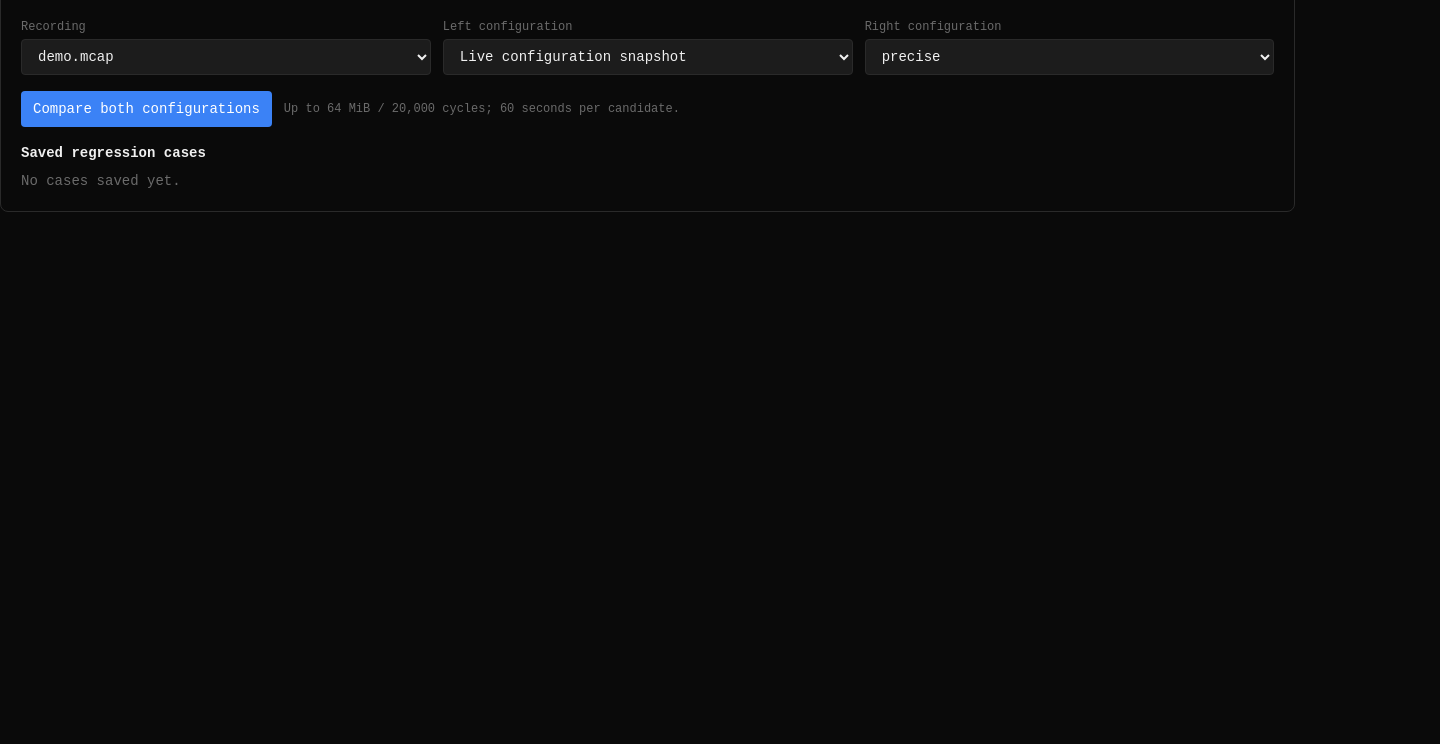
Test case: compares two selected snapshots and saves a runnable expected-decision case
Click the button "Compare both configurations" at (146, 109), box 21,91 -> 272,127
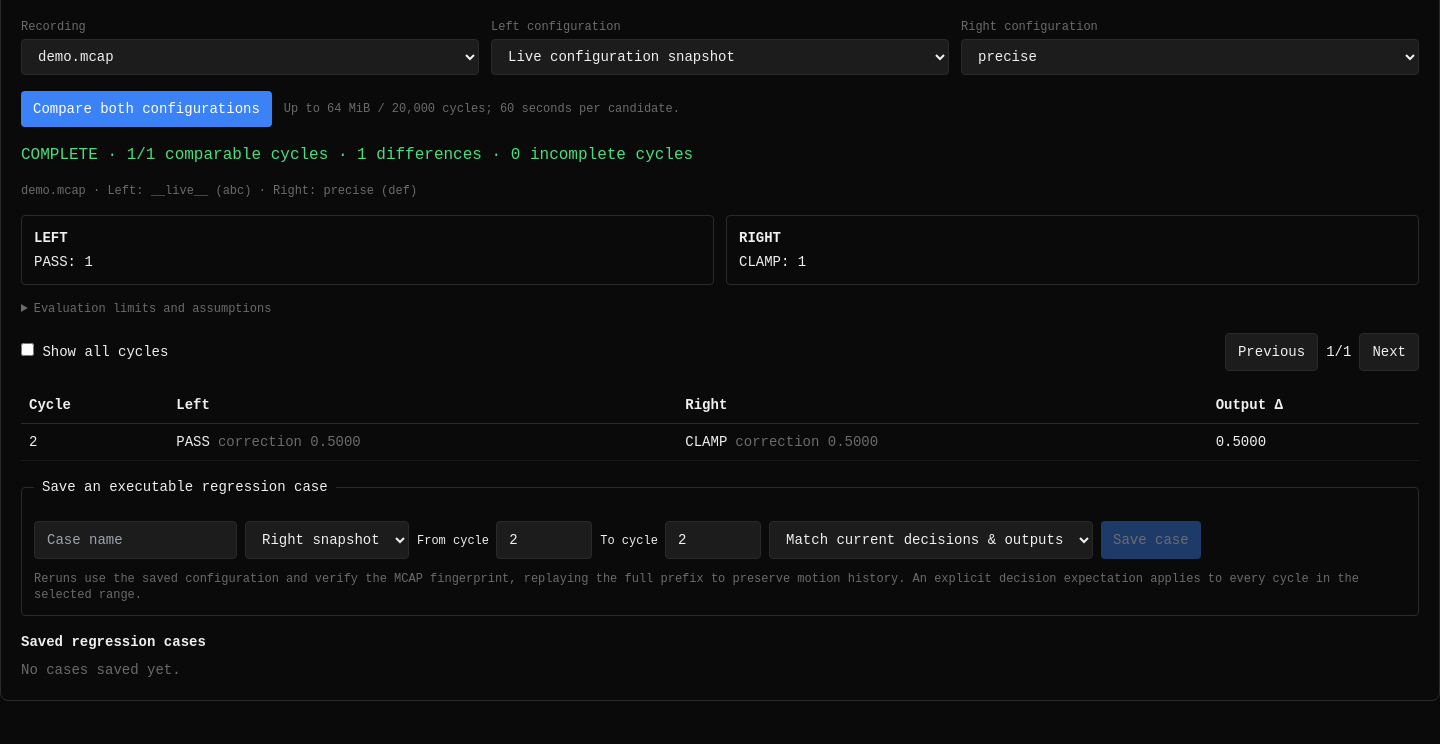
Now the text "COMPLETE · 1/1 comparable cycles · 1 differences · 0 incomplete cycles" is shown, box 21,146 -> 693,164
Type "Must clamp" into the field named "Regression name" at (136, 540), box 34,521 -> 237,559
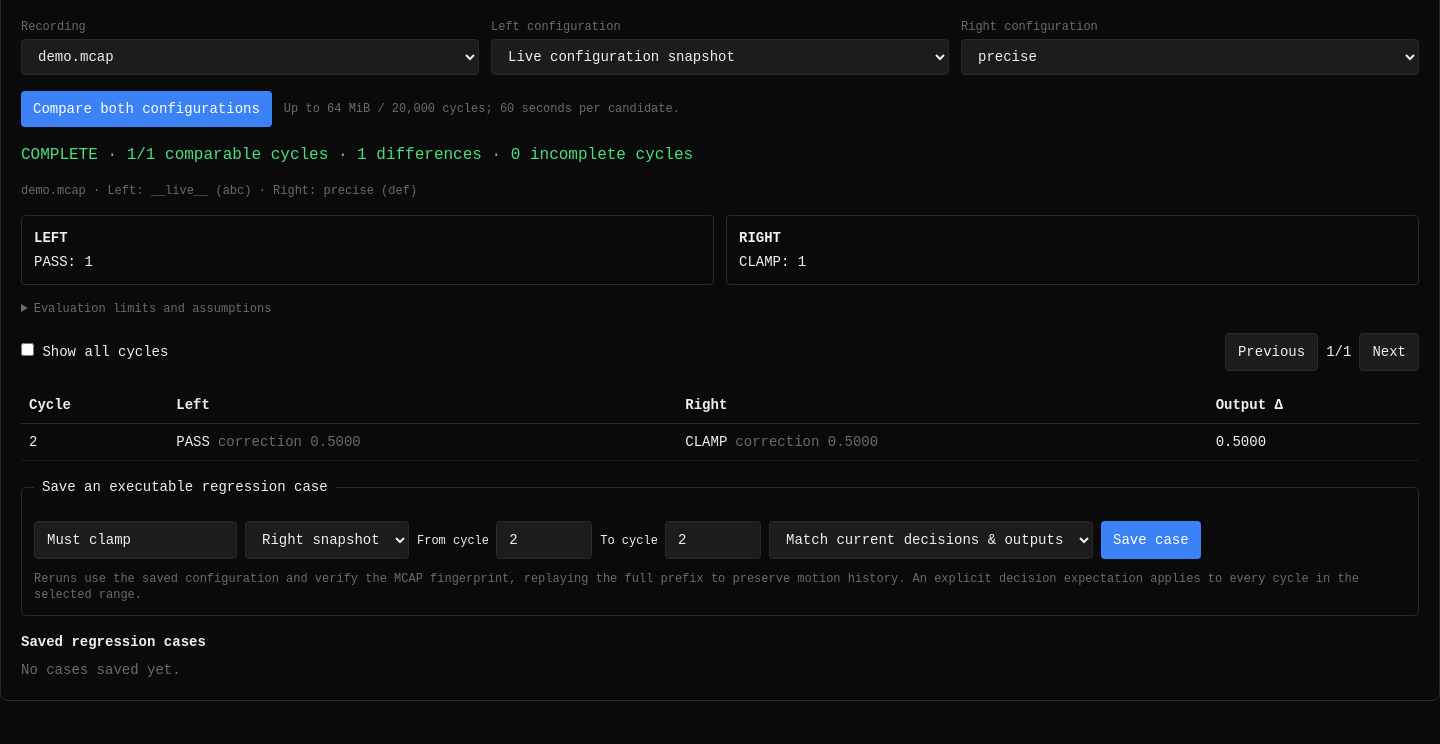
Select "Must be CLAMP" in the dropdown named "Expected result" at (931, 540), box 769,521 -> 1093,559
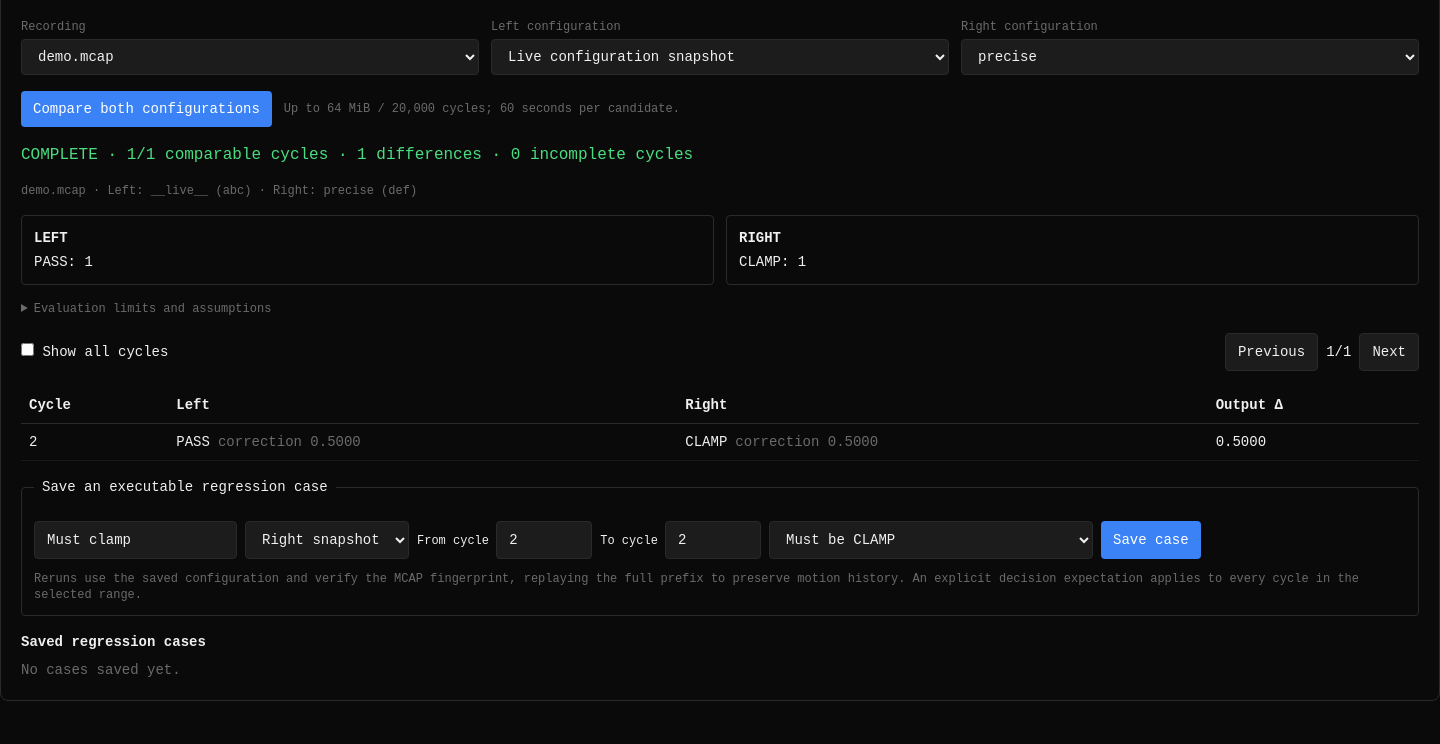
Click the button "Save case" at (1151, 540), box 1101,521 -> 1201,559
(page scrolled)
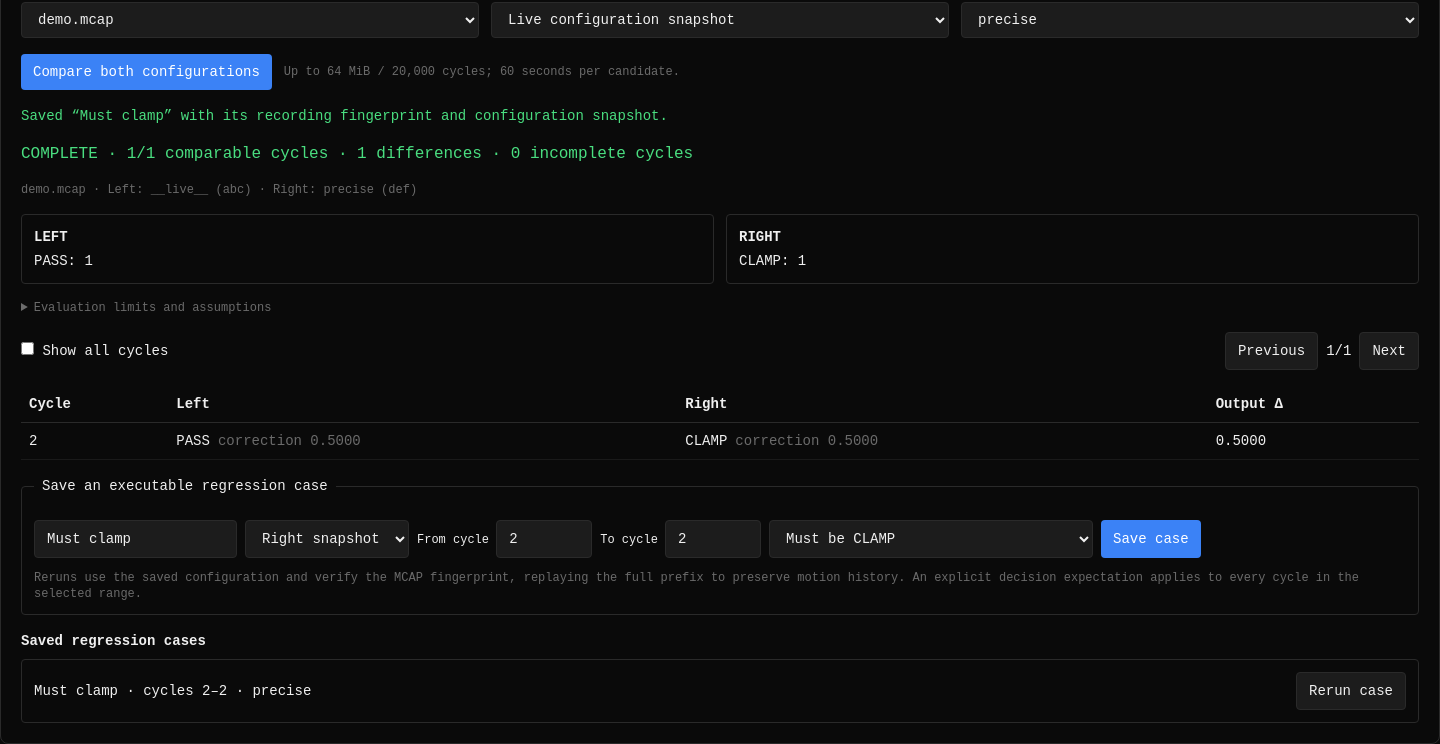
Click the button "Rerun case" at (1351, 691), box 1296,672 -> 1406,710
(page scrolled)
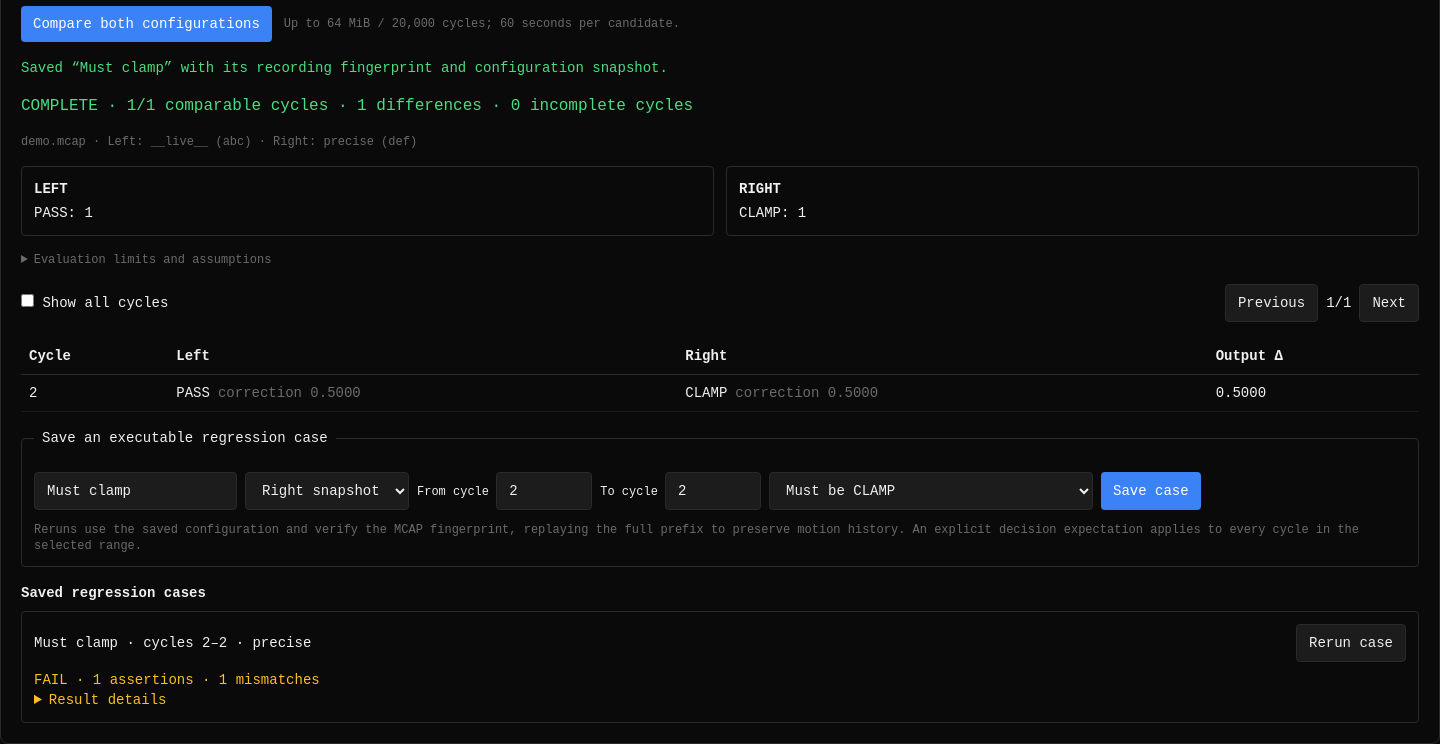
Now the text "FAIL · 1 assertions · 1 mismatches Result details" is shown, box 34,672 -> 320,708
